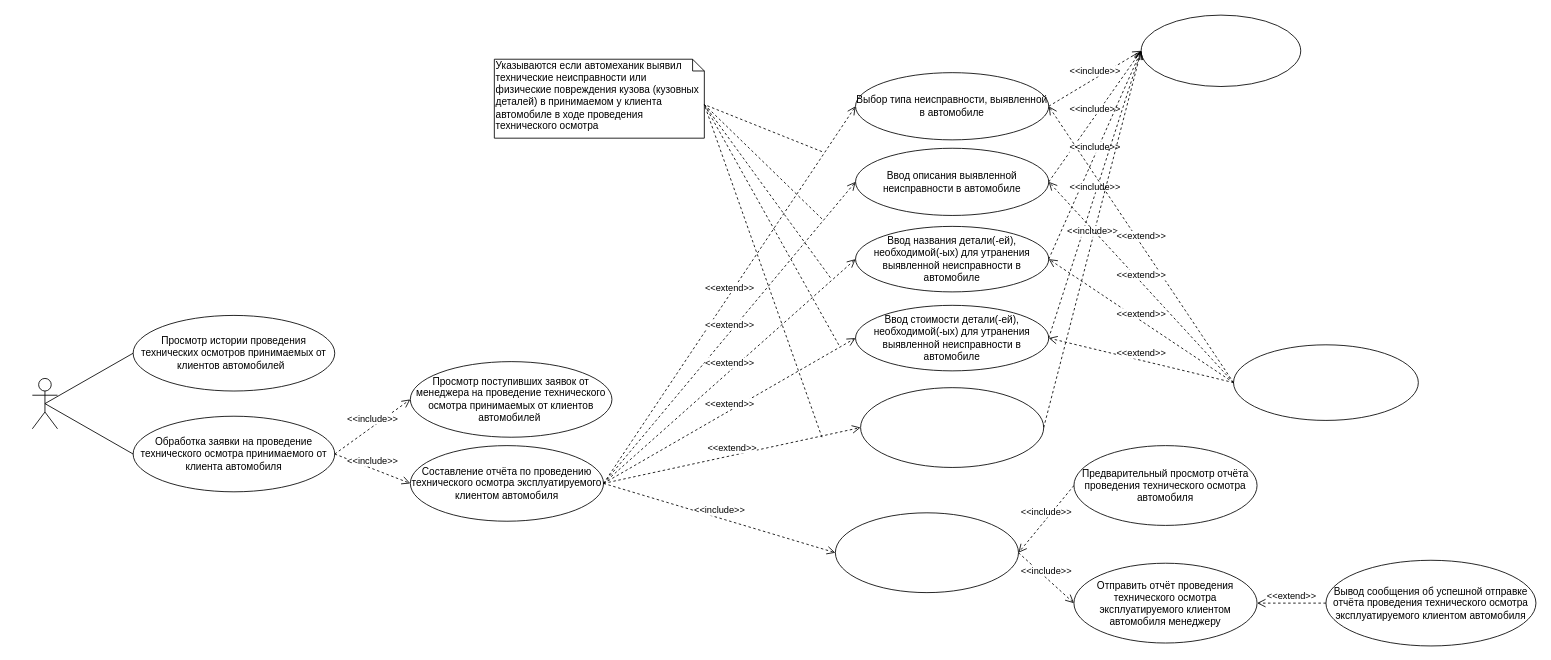
Image size: 1551x660. Some labels were removed from this diagram. Here are the shapes that lost their labels. From the top down, the centre of each, then its label:
At pixel 1220 50: "Проверка данных на указание и их корректность выбора/ввода".
At pixel 1325 382: "Вывод сообщения об отсутствии данных или их некорректного выбора/ввода".
At pixel 45 403: "Автомеханик".
At pixel 952 427: "Приложить фотографию(-ии) выявленных неисправностей в автомобиле".
At pixel 926 552: "Сформировать отчёт проведения технического осмотра автомобиля".
